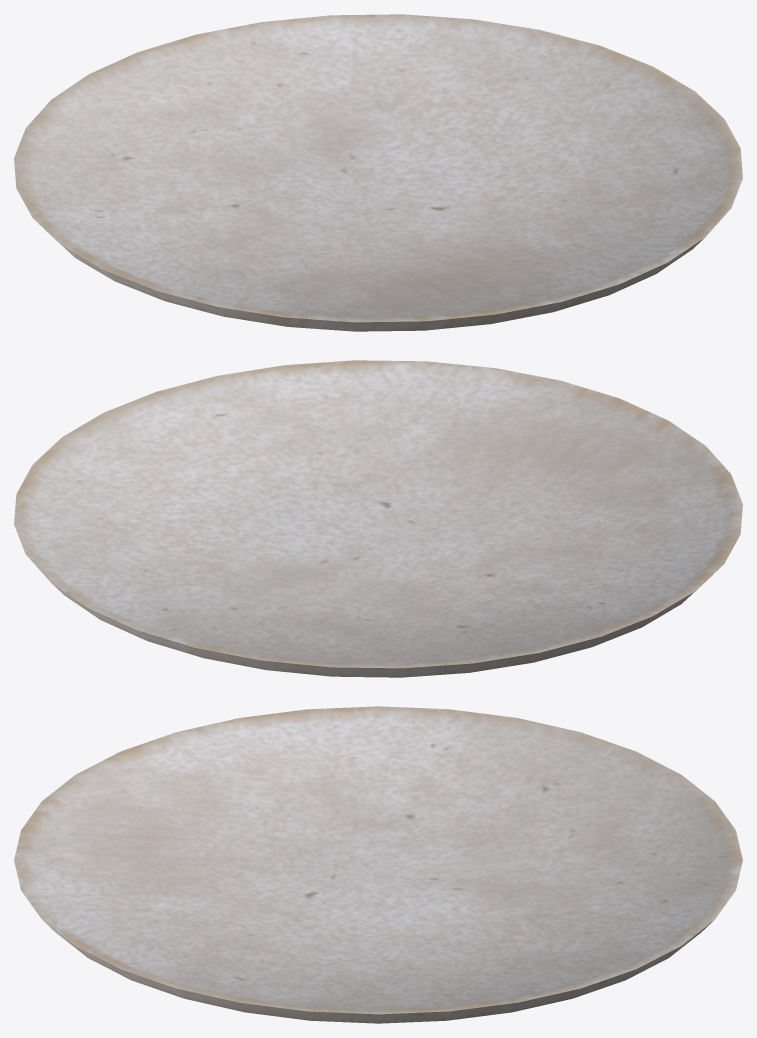
File: Plate.fbx
3 views of the same model, one above another, from view 1: azimuth 30°, elevation 25°; view 2: azimuth 150°, elevation 25°; view 3: azimuth 270°, elevation 25° (orthographic).
Visible parts, largest first — view 1: Plate; view 2: Plate; view 3: Plate.
Part boxes in pixels (x1,y1,x2,y2): Plate: (14, 14, 742, 331); Plate: (14, 360, 742, 677); Plate: (14, 706, 742, 1023).
Bounding box in the file's own units: 24.34 × 1.2 × 24.34.
